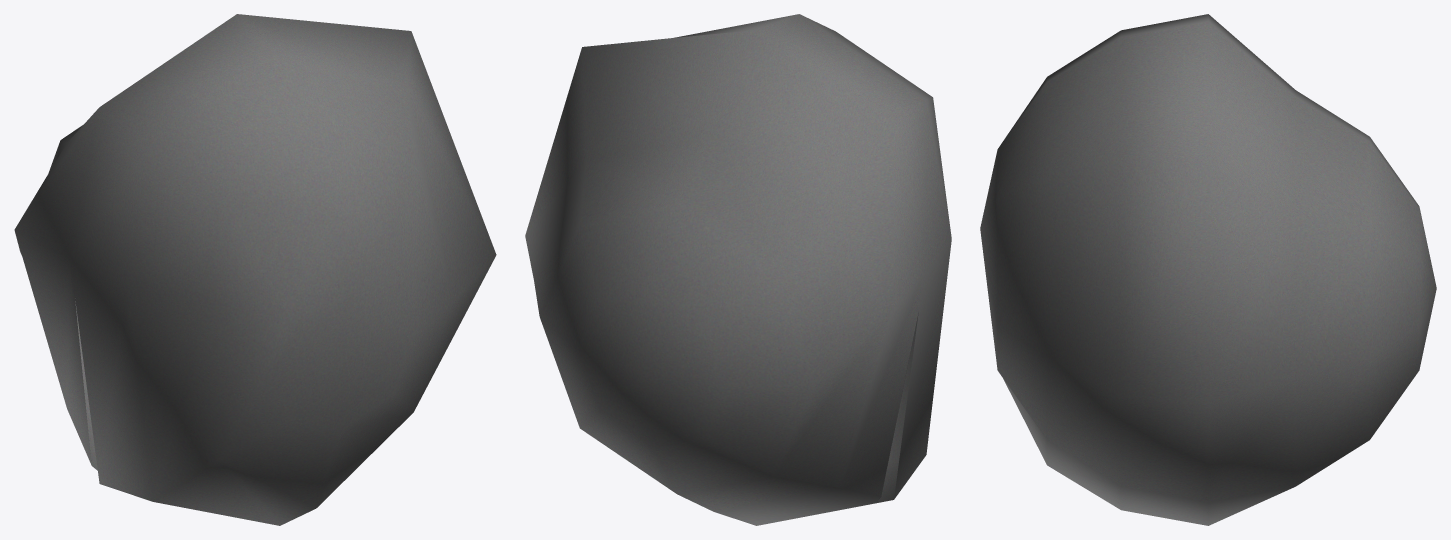
File: Pedras.fbx
The picture shows the model from 3 angles, left to right: view 1: azimuth 30°, elevation 25°; view 2: azimuth 150°, elevation 25°; view 3: azimuth 270°, elevation 25°; orthographic projection.
Visible parts, largest first — view 1: Esfera UV.002; view 2: Esfera UV.002; view 3: Esfera UV.002.
Boxes of the visible parts, left/top/right/bottom form: Esfera UV.002: left=14, top=14, right=496, bottom=525; Esfera UV.002: left=525, top=14, right=951, bottom=525; Esfera UV.002: left=980, top=14, right=1436, bottom=525.
Size of the model in its own units: 211 by 244 by 200.
1 material, 1 textured.
